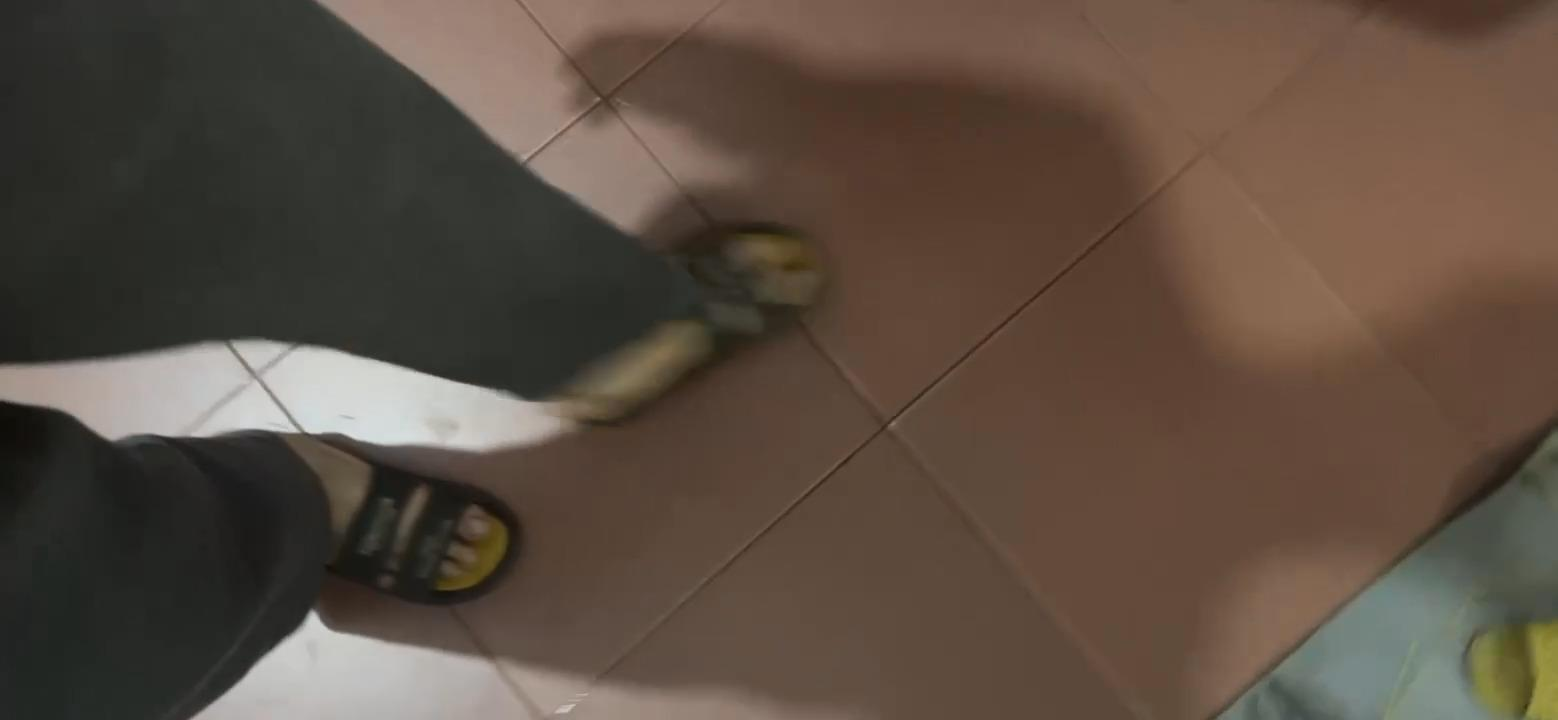no-boot: (245, 407, 525, 610), (585, 217, 850, 405)
